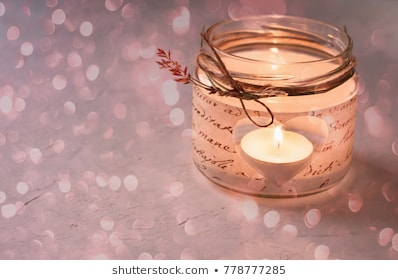Fire: (271, 123, 287, 148)
